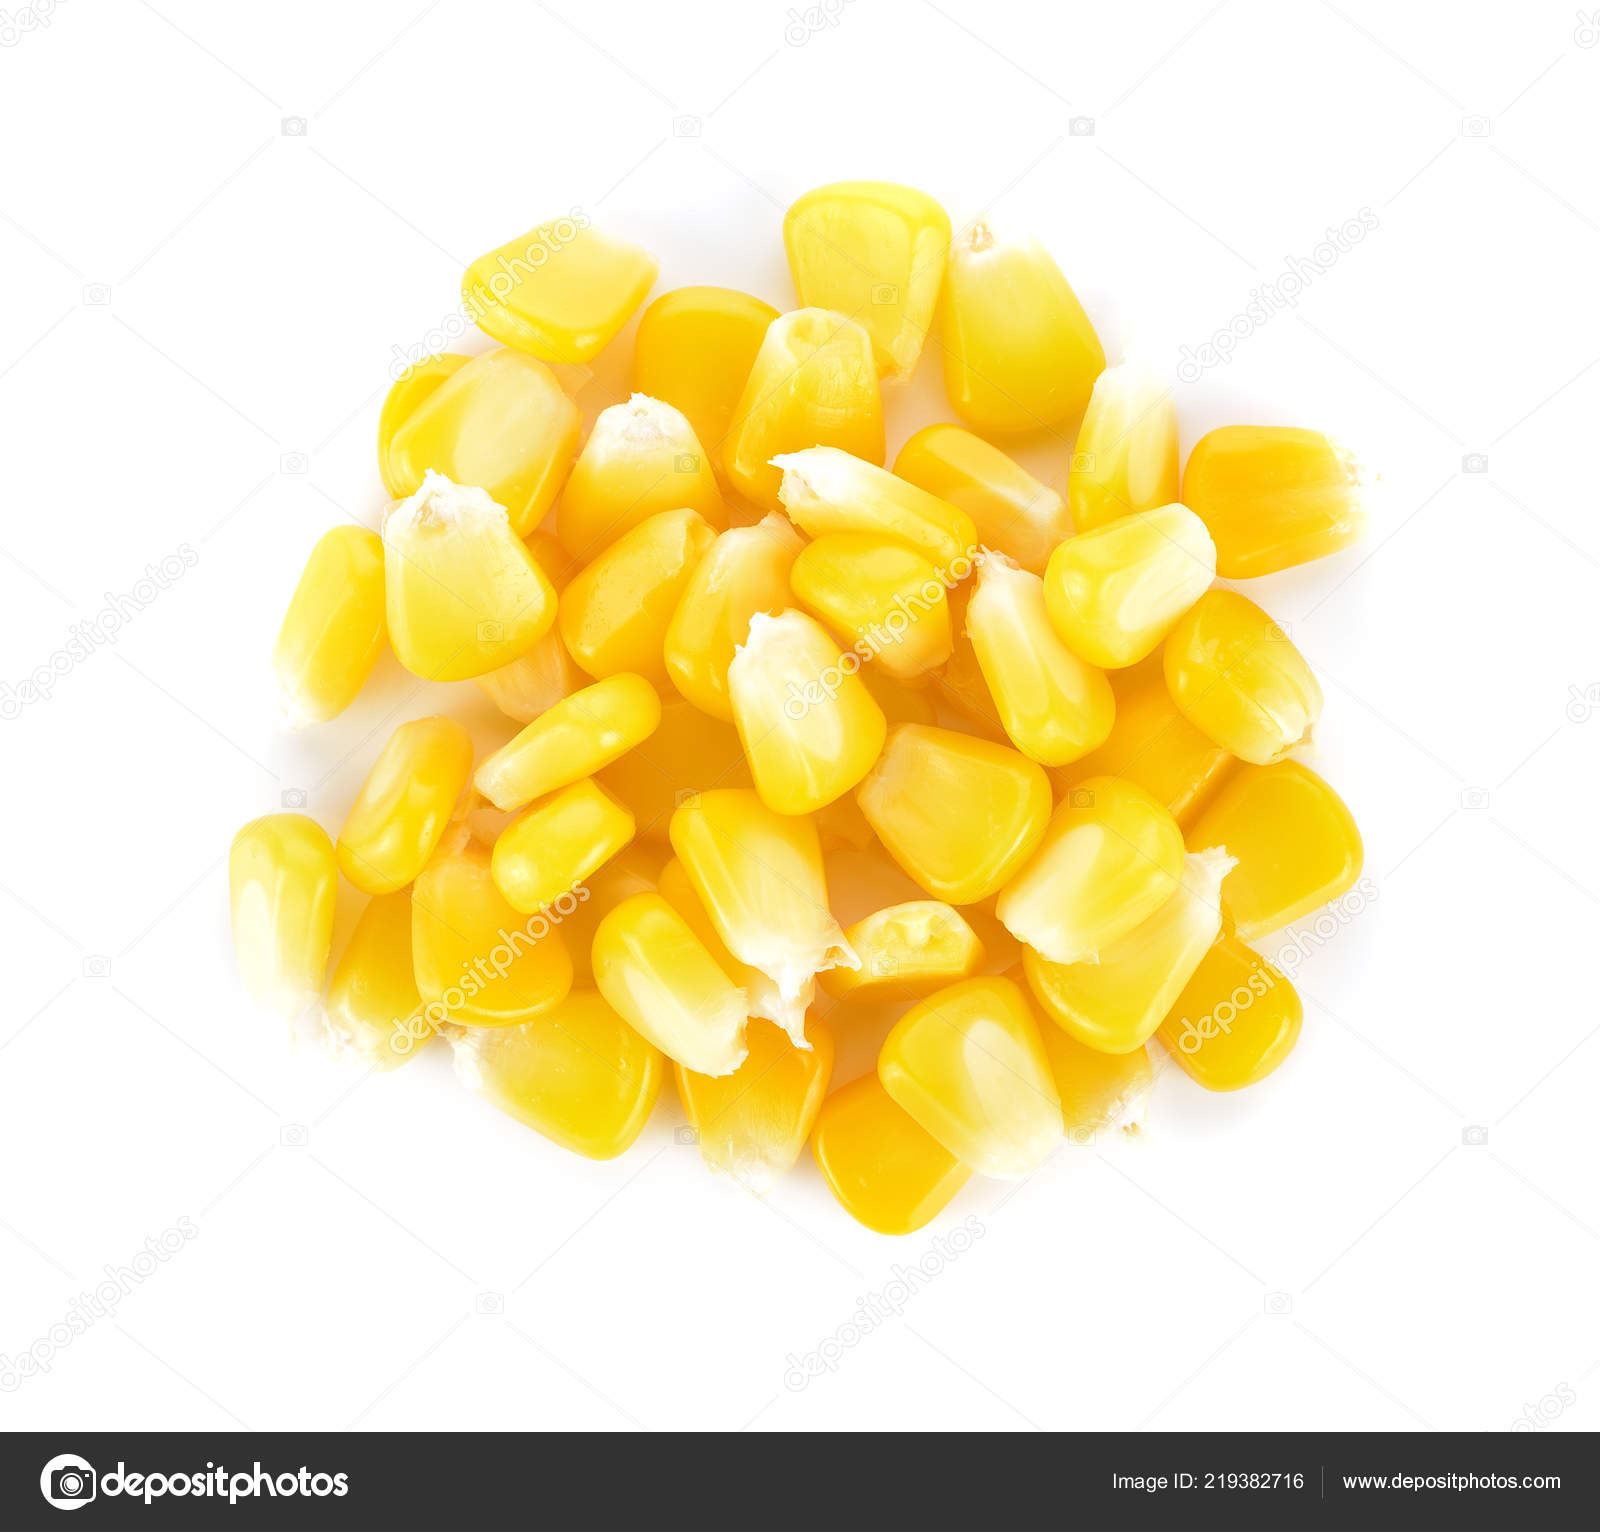corn: (874, 970, 1084, 1198), (993, 779, 1193, 975), (929, 224, 1116, 429), (716, 597, 889, 816), (384, 470, 549, 675), (684, 793, 839, 998), (1039, 507, 1226, 666)
